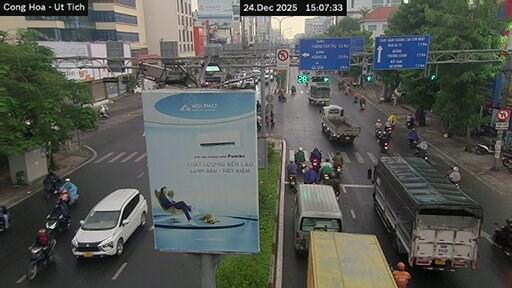motorbike: (27, 238, 55, 279), (492, 223, 511, 259), (46, 209, 70, 234), (44, 180, 60, 200), (475, 139, 495, 154), (445, 167, 459, 188), (60, 189, 78, 205), (0, 205, 9, 231), (288, 174, 297, 193), (414, 148, 428, 160), (502, 153, 511, 171), (98, 104, 109, 118), (380, 140, 388, 154), (334, 165, 342, 178), (311, 159, 319, 172), (321, 173, 330, 183), (297, 161, 305, 172), (408, 139, 417, 148), (385, 126, 392, 137), (406, 120, 414, 129), (375, 128, 382, 138), (98, 112, 109, 118), (278, 94, 286, 102), (337, 82, 343, 89), (257, 121, 261, 131), (360, 103, 365, 109), (291, 89, 296, 94), (354, 97, 358, 102)
